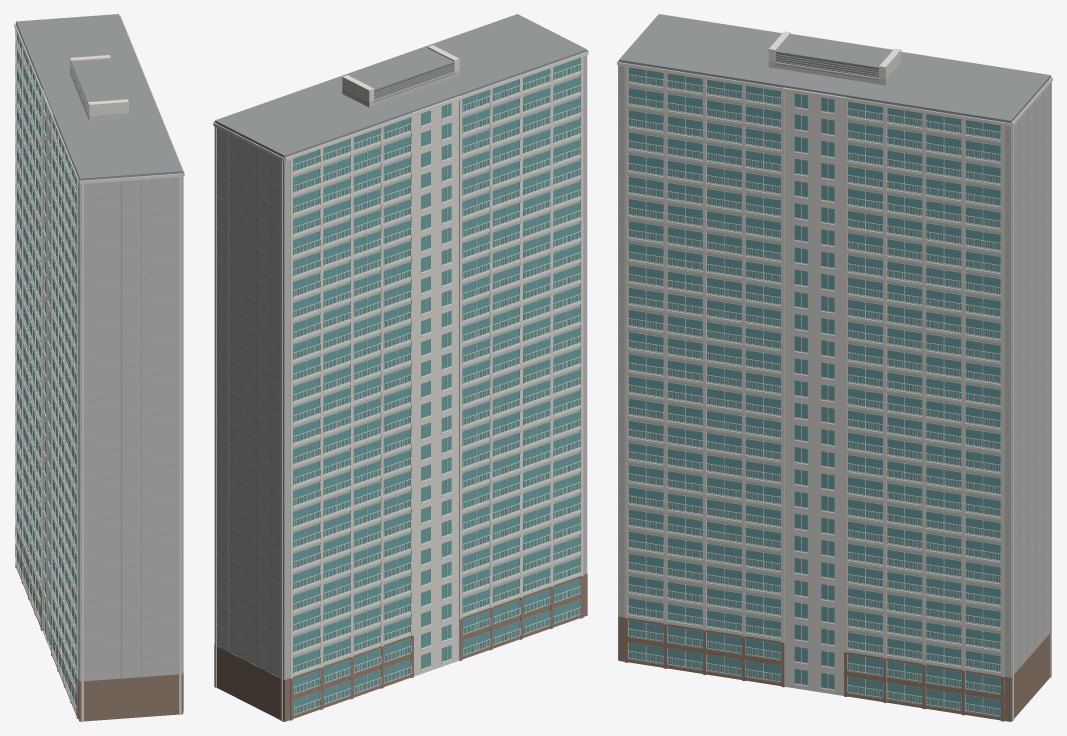
The model's file is bespoke-jamsil-els-103.glb.
The picture shows the model from 3 angles, left to right: view 1: azimuth 30°, elevation 25°; view 2: azimuth 150°, elevation 25°; view 3: azimuth 270°, elevation 25°; orthographic projection. The views are drawn at different scales.
Parts seen in each view (by area): view 1: Els103_editable_Els103_light_grey_solid_wall, Els103_editable_Els103_modest_grey_flat_roof_caps, Els103_editable_Els103_turquoise_balcony_glazing, Els103_white_exact_chunk_0, Els103_white_exact_chunk_1, Els103_white_exact_chunk_3, Els103_white_exact_chunk_2, Els103_editable_Els103_muted_ground_wall, Els103_white_exact_chunk_6, Els103_white_exact_chunk_5; view 2: Els103_editable_Els103_turquoise_balcony_glazing, Els103_editable_Els103_light_grey_solid_wall, Els103_white_exact_chunk_0, Els103_white_exact_chunk_1, Els103_editable_Els103_modest_grey_flat_roof_caps, Els103_white_exact_chunk_2, Els103_white_exact_chunk_3, Els103_editable_Els103_muted_ground_wall, Els103_white_exact_chunk_6; view 3: Els103_editable_Els103_turquoise_balcony_glazing, Els103_editable_Els103_light_grey_solid_wall, Els103_white_exact_chunk_3, Els103_white_exact_chunk_5, Els103_white_exact_chunk_6, Els103_editable_Els103_modest_grey_flat_roof_caps, Els103_white_exact_chunk_4, Els103_editable_Els103_muted_ground_wall, Els103_white_exact_chunk_0.
Boxes of the visible parts, bbox=[...] form: Els103_editable_Els103_light_grey_solid_wall: bbox=[16, 23, 182, 681]; Els103_editable_Els103_modest_grey_flat_roof_caps: bbox=[16, 14, 182, 681]; Els103_editable_Els103_turquoise_balcony_glazing: bbox=[17, 29, 78, 710]; Els103_white_exact_chunk_0: bbox=[15, 23, 53, 650]; Els103_white_exact_chunk_1: bbox=[15, 26, 57, 665]; Els103_white_exact_chunk_3: bbox=[14, 23, 183, 721]; Els103_white_exact_chunk_2: bbox=[51, 119, 76, 712]; Els103_editable_Els103_muted_ground_wall: bbox=[15, 527, 183, 721]; Els103_white_exact_chunk_6: bbox=[70, 15, 184, 175]; Els103_white_exact_chunk_5: bbox=[156, 106, 183, 672]; Els103_editable_Els103_turquoise_balcony_glazing: bbox=[293, 58, 579, 714]; Els103_editable_Els103_light_grey_solid_wall: bbox=[215, 51, 586, 679]; Els103_white_exact_chunk_0: bbox=[213, 96, 459, 721]; Els103_white_exact_chunk_1: bbox=[290, 113, 490, 720]; Els103_editable_Els103_modest_grey_flat_roof_caps: bbox=[215, 14, 586, 677]; Els103_white_exact_chunk_2: bbox=[462, 68, 580, 644]; Els103_white_exact_chunk_3: bbox=[285, 50, 588, 660]; Els103_editable_Els103_muted_ground_wall: bbox=[214, 573, 587, 721]; Els103_white_exact_chunk_6: bbox=[213, 45, 459, 122]; Els103_editable_Els103_turquoise_balcony_glazing: bbox=[628, 67, 1000, 715]; Els103_editable_Els103_light_grey_solid_wall: bbox=[619, 61, 1050, 677]; Els103_white_exact_chunk_3: bbox=[617, 16, 1051, 695]; Els103_white_exact_chunk_5: bbox=[624, 63, 961, 710]; Els103_white_exact_chunk_6: bbox=[618, 31, 1010, 716]; Els103_editable_Els103_modest_grey_flat_roof_caps: bbox=[619, 14, 1050, 673]; Els103_white_exact_chunk_4: bbox=[667, 73, 781, 681]; Els103_editable_Els103_muted_ground_wall: bbox=[618, 616, 1049, 721]; Els103_white_exact_chunk_0: bbox=[1012, 77, 1052, 721].
Bounding box in the file's own units: 28.8 × 76.6 × 48.88.
